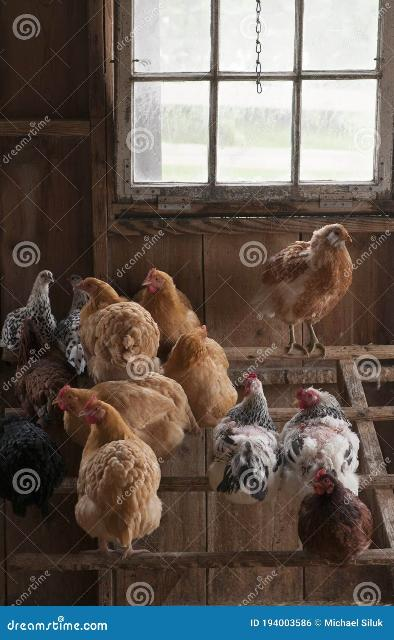Chicken: (71, 398, 163, 559), (45, 368, 188, 462), (260, 221, 355, 355), (71, 273, 165, 382), (281, 384, 369, 500), (0, 312, 82, 427), (211, 370, 280, 506), (160, 322, 242, 428), (294, 469, 375, 569), (127, 265, 206, 353), (0, 262, 65, 362)
